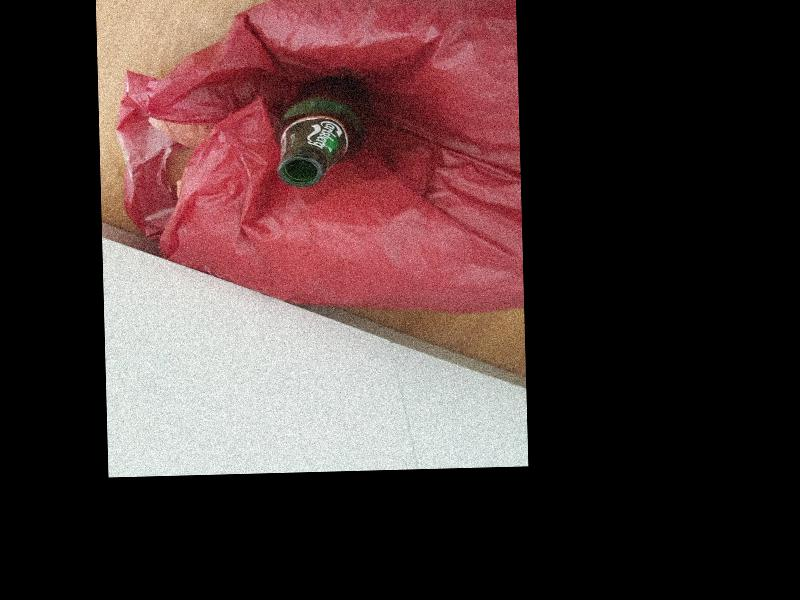Beer: (274, 75, 367, 186)
